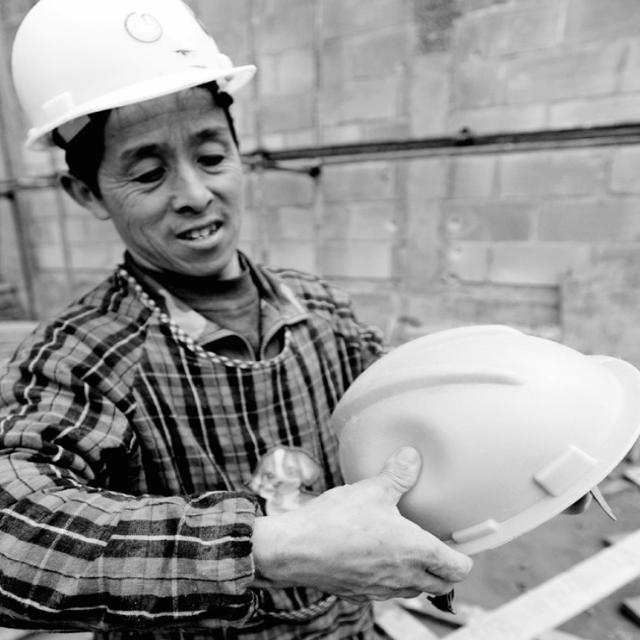helmet: (7, 0, 261, 275)
